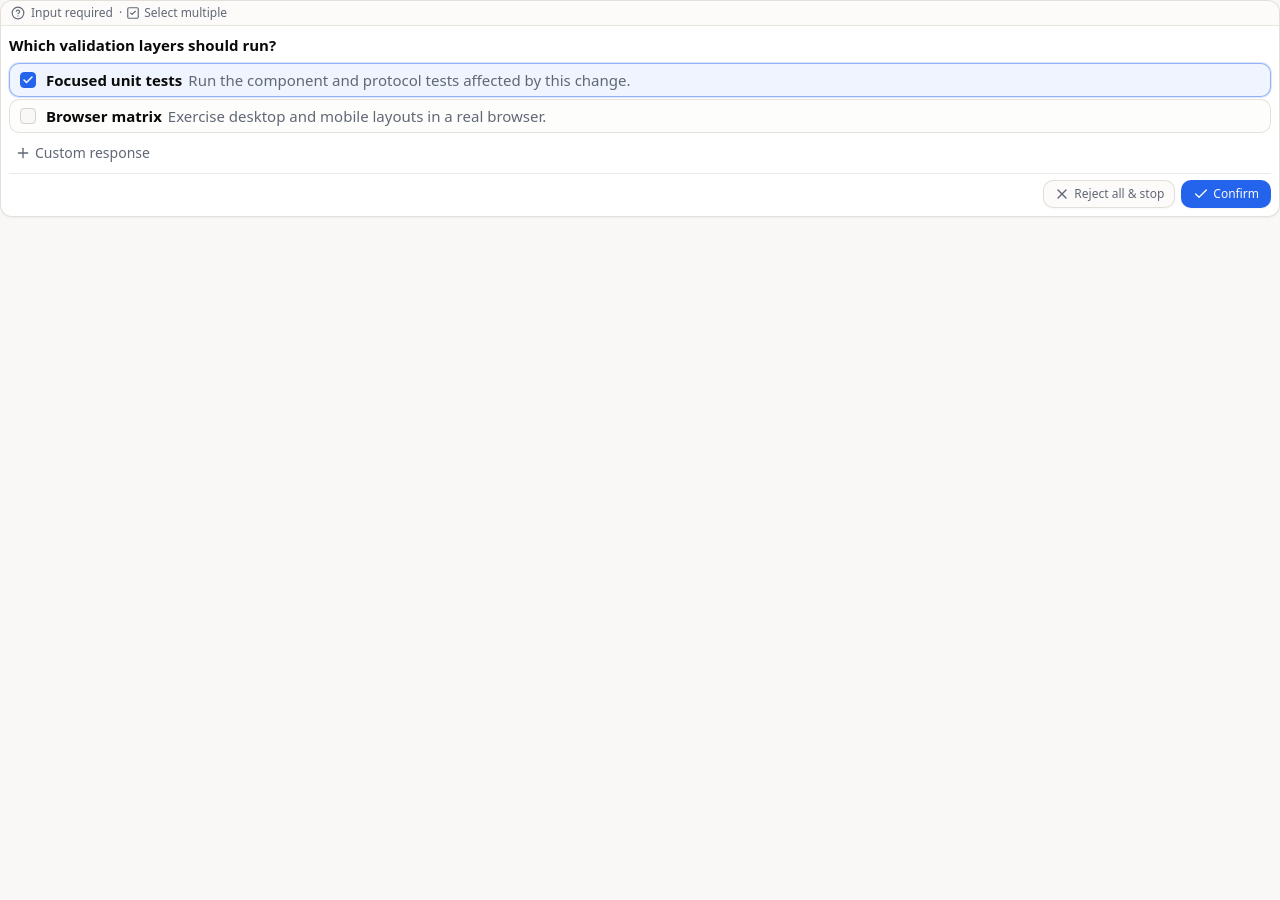
AskUserChoiceCard › uses checkboxes for multiple selection and submits all selected values
Click the checkbox with test id "ask-user-choice-option-browser": (28, 116) [20,108,36,124]
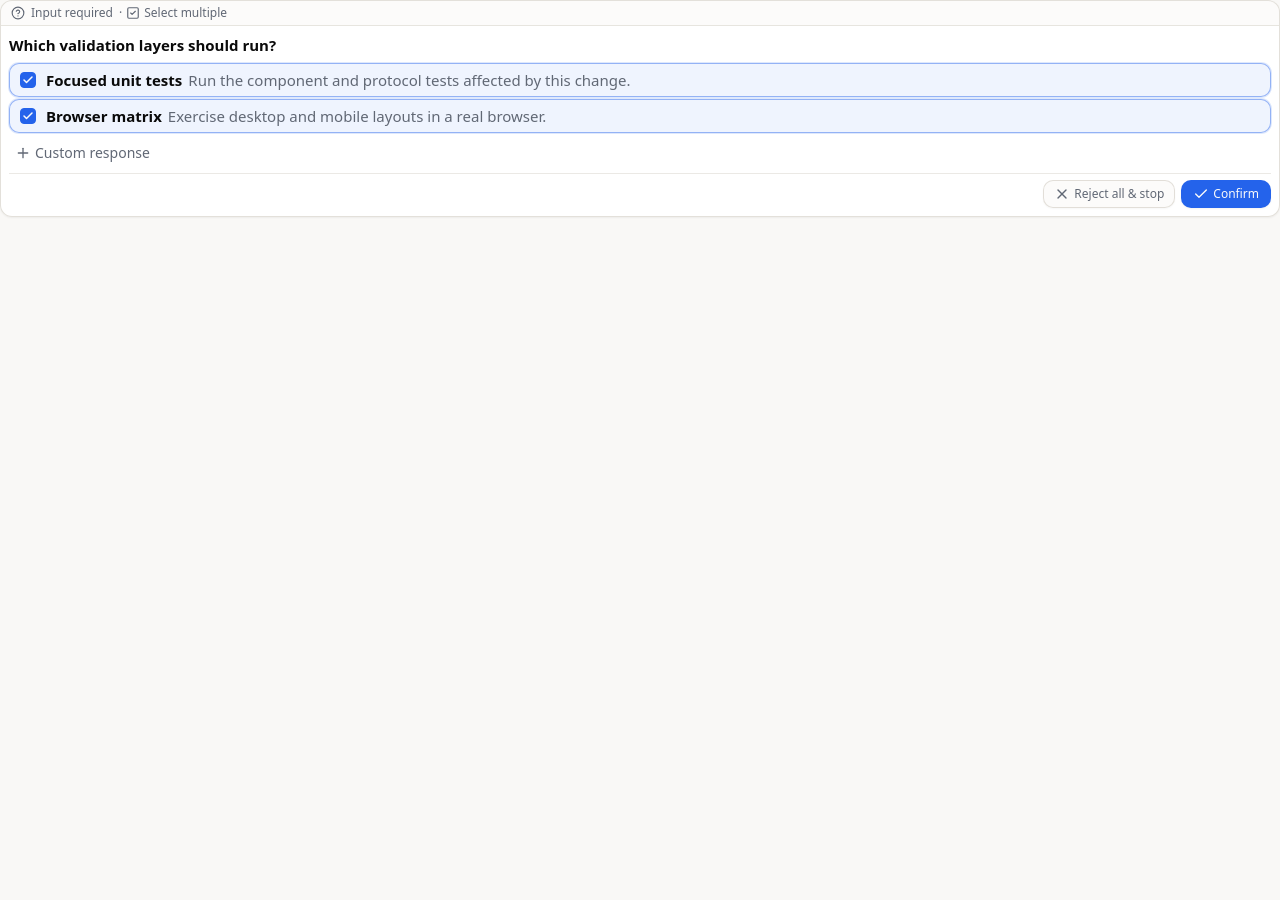
Result: the checkbox with test id "ask-user-choice-option-browser" is checked at [20,108,36,124]
Click the button with test id "ask-user-choice-submit": (1226, 194) [1181,180,1271,208]
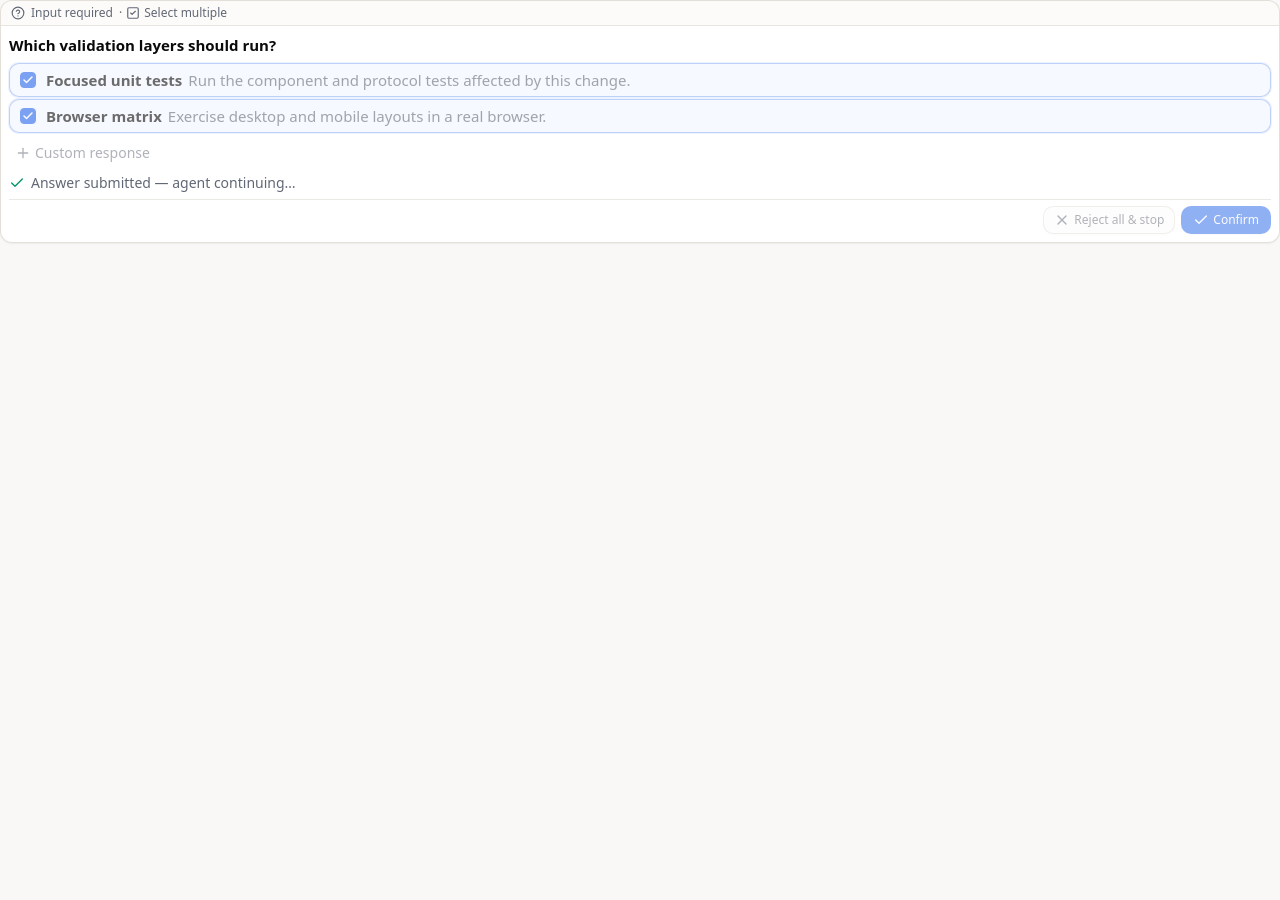
Result: the text "Answer submitted — agent continuing…" is shown at [9,172,296,192]
